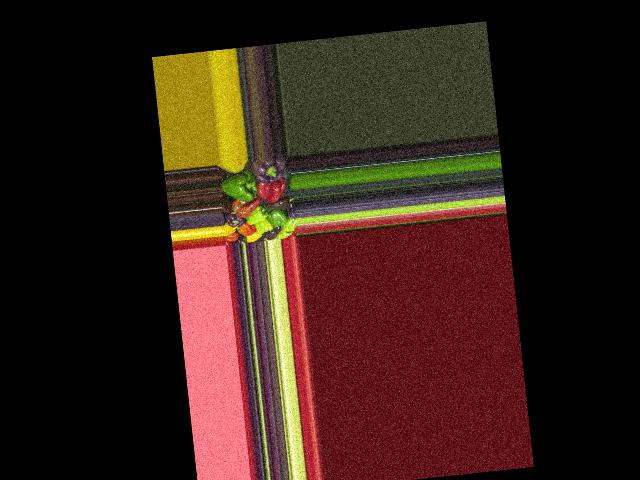bell_pepper: (224, 211, 245, 231)
